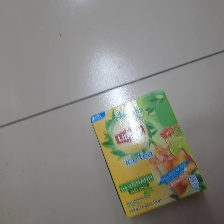LipTon: (90, 87, 207, 218)
